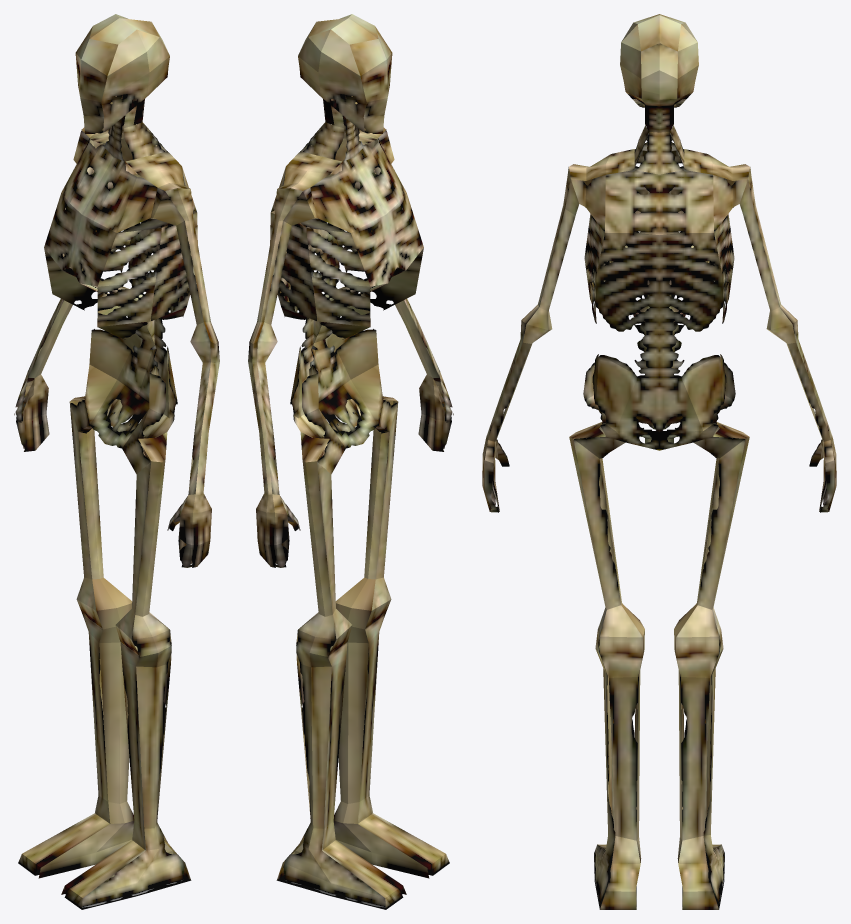
The model's file is skeleton.obj.
The picture shows the model from 3 angles, left to right: view 1: azimuth 30°, elevation 25°; view 2: azimuth 150°, elevation 25°; view 3: azimuth 270°, elevation 25°; orthographic projection. The views are drawn at different scales.
Parts seen in each view (by area): view 1: ps1_skeleton.002; view 2: ps1_skeleton.002; view 3: ps1_skeleton.002.
Boxes of the visible parts, left/top/right/bottom form: ps1_skeleton.002: left=14, top=14, right=219, bottom=909; ps1_skeleton.002: left=248, top=14, right=453, bottom=909; ps1_skeleton.002: left=482, top=14, right=836, bottom=909.
Size of the model in its own units: 0.3038 by 1.98 by 0.7265.
Materials: 1 (1 with a texture image).
